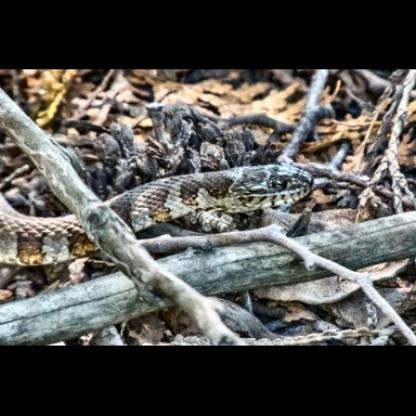Snake: (1, 93, 416, 325)
